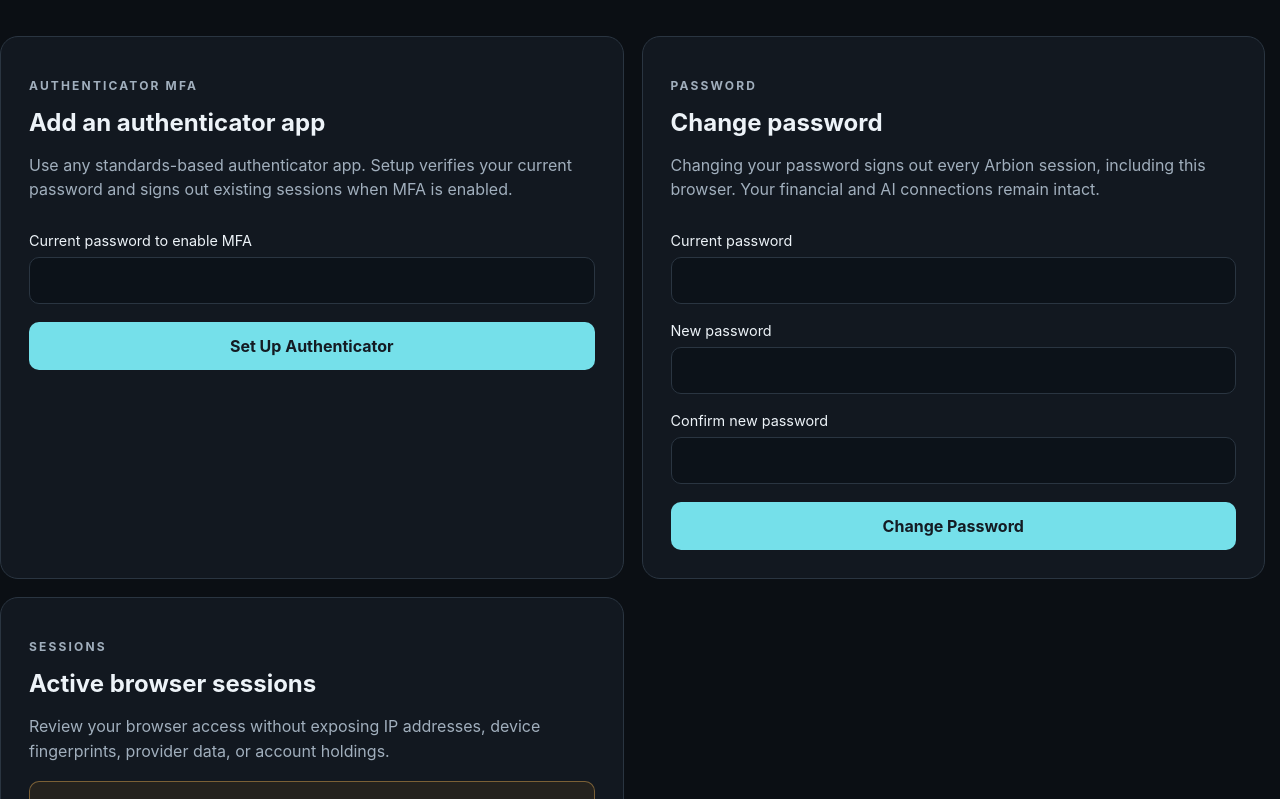
Test: SecurityControls › keeps every competing action disabled while a security request is pending
Type "test-only-long-passphrase" into the password field labelled "Current password to enable MFA" at (312, 281), box x1=29 y1=257 x2=594 y2=304
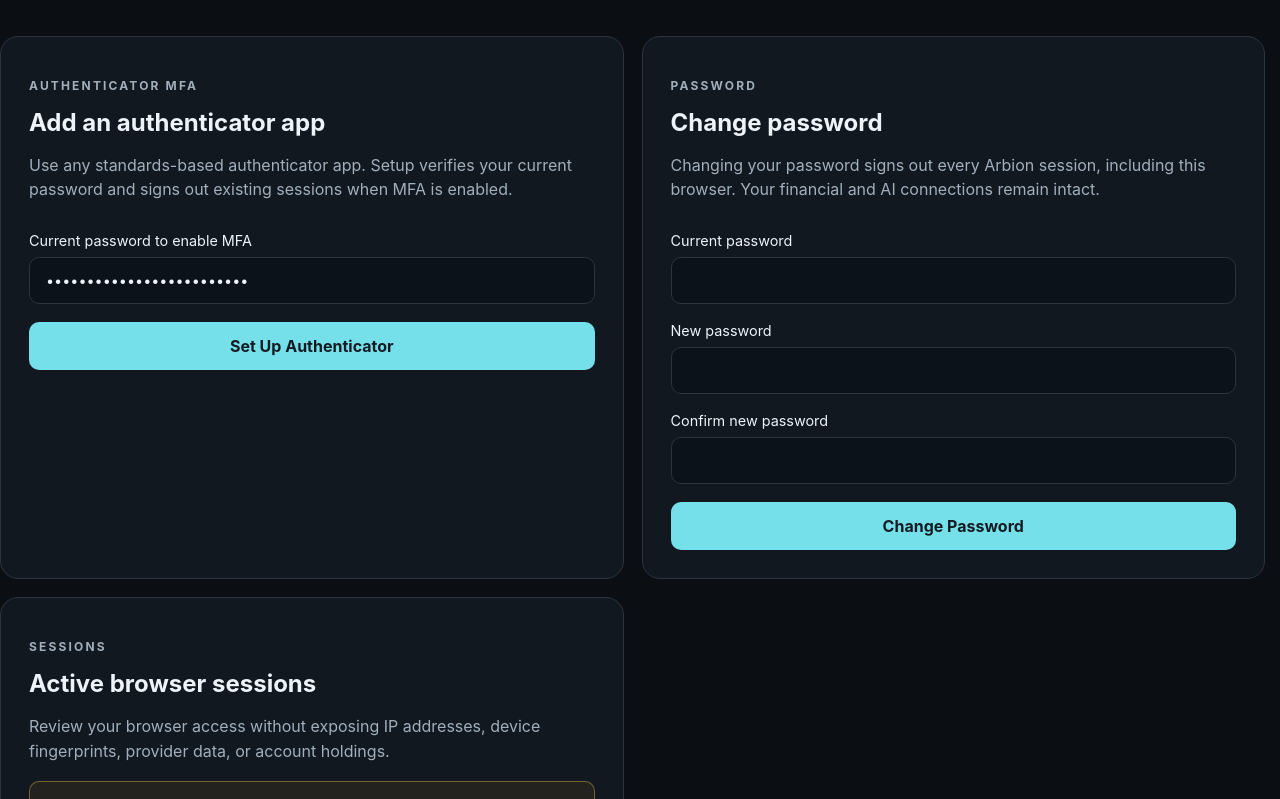
Click the button "Set Up Authenticator" at (312, 346), box x1=29 y1=322 x2=594 y2=370
(page scrolled)
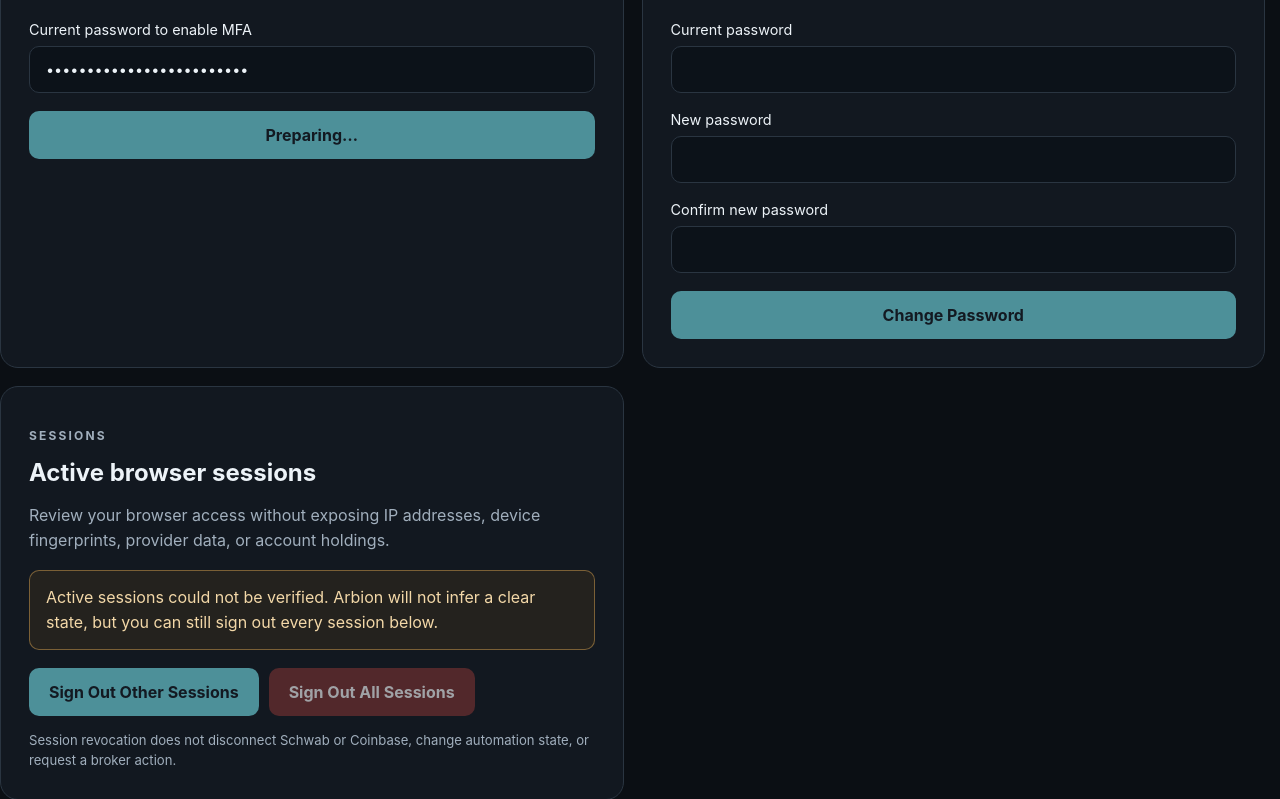
Check: the button "Preparing…" is disabled, box x1=29 y1=111 x2=594 y2=159
Check: the button "Change Password" is disabled, box x1=670 y1=291 x2=1236 y2=339
Check: the button "Sign Out All Sessions" is disabled, box x1=269 y1=668 x2=475 y2=716
